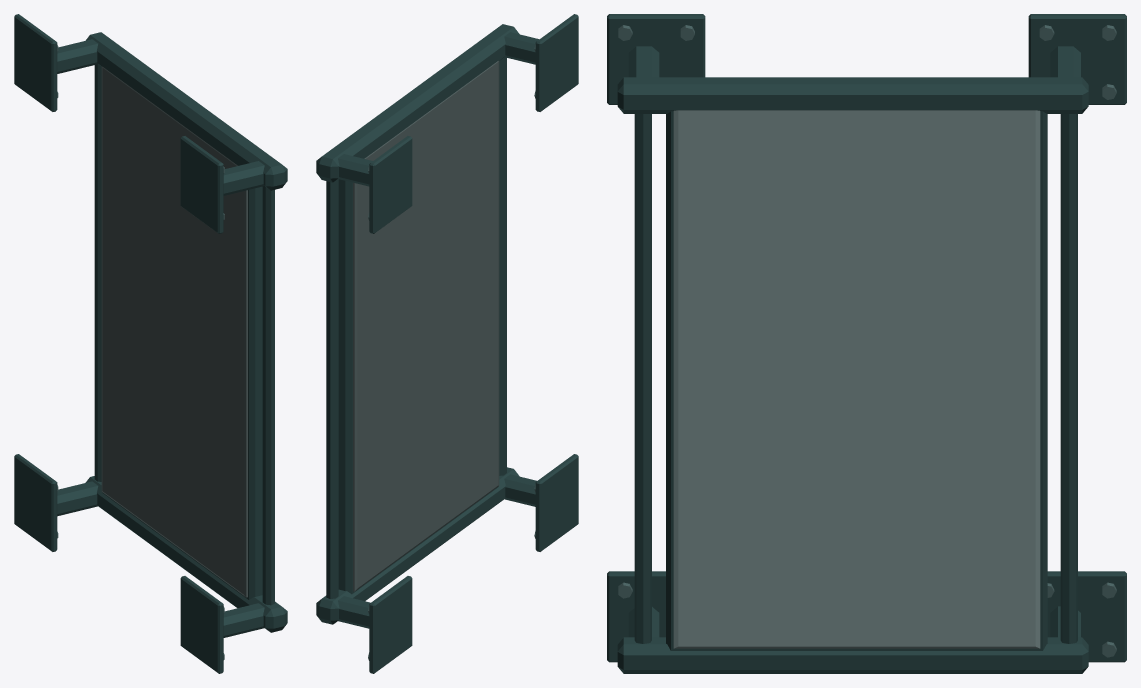
File: signboard vertical to wall.fbx
The picture shows the model from 3 angles, left to right: view 1: azimuth 30°, elevation 25°; view 2: azimuth 150°, elevation 25°; view 3: azimuth 270°, elevation 25°; orthographic projection. The views are drawn at different scales.
Parts seen in each view (by area): view 1: polySurface101; view 2: polySurface101; view 3: polySurface101.
Part boxes in pixels (x1,y1,x2,y2): polySurface101: (14, 14, 287, 673); polySurface101: (316, 14, 578, 673); polySurface101: (607, 14, 1126, 673).
Bounding box in the file's own units: 0.1685 × 1.08 × 0.7891.
